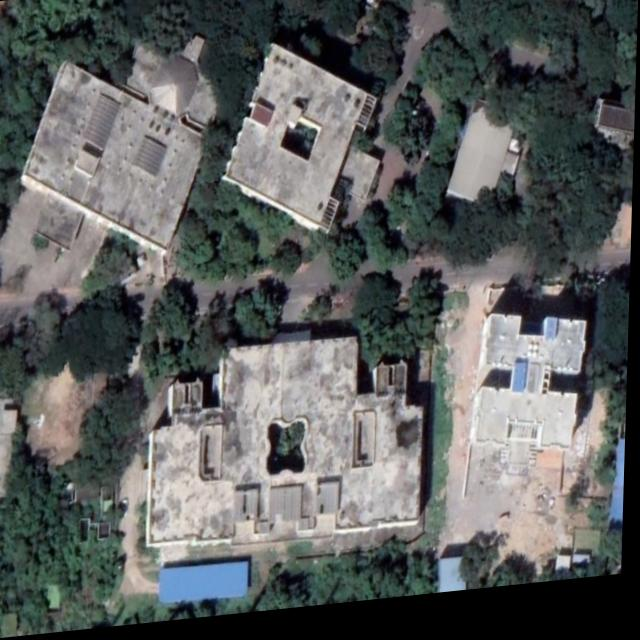Batiment: (150, 344, 427, 553), (24, 49, 211, 251), (226, 50, 378, 238), (479, 324, 589, 459)
